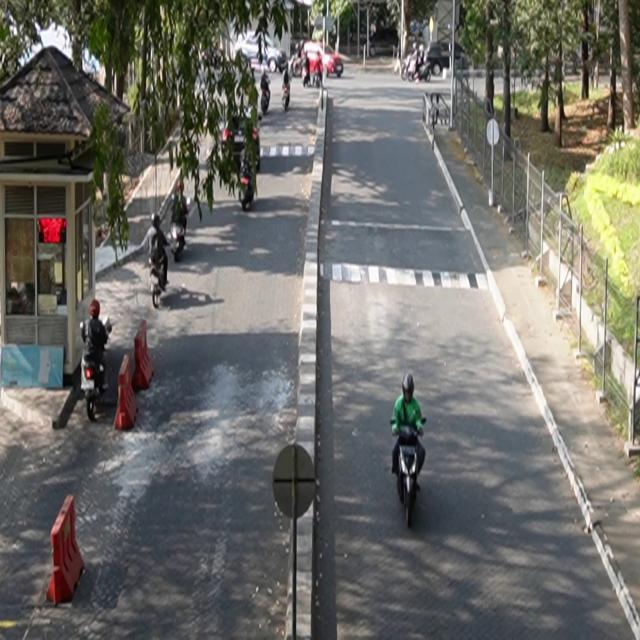car: (426, 40, 469, 76)
